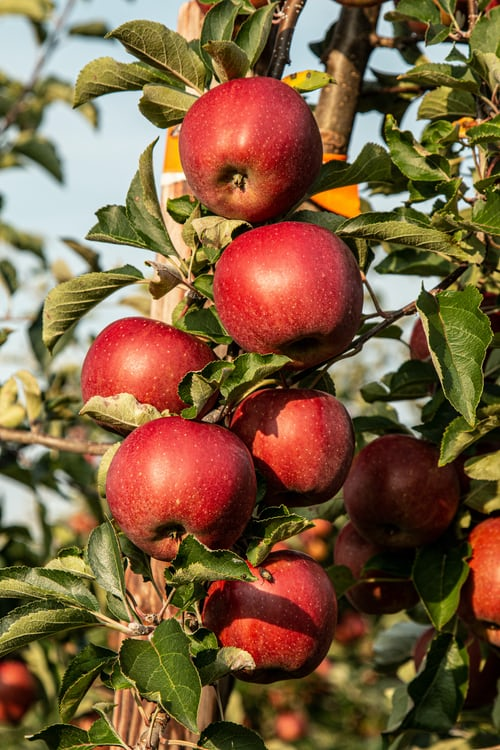apple: (104, 413, 261, 562), (212, 212, 366, 358), (174, 76, 328, 216), (195, 543, 341, 682), (80, 318, 221, 434), (223, 383, 354, 505), (353, 429, 464, 548), (449, 511, 498, 646)
